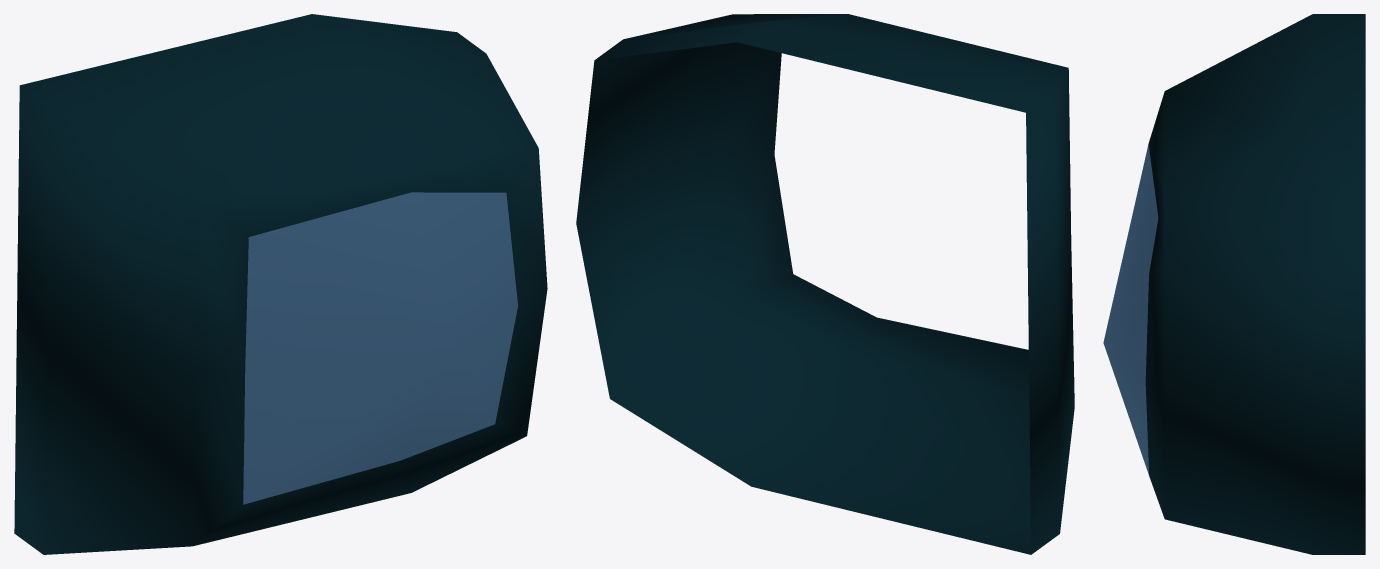
Rendered from ButtonForward.glb.
3 renders of one model, left to right at view 1: azimuth 30°, elevation 25°; view 2: azimuth 150°, elevation 25°; view 3: azimuth 270°, elevation 25°, orthographic. The views are drawn at different scales.
Parts seen in each view (by area): view 1: ButtonForward; view 2: ButtonForward; view 3: ButtonForward.
Boxes of the visible parts, bbox=[...] form: ButtonForward: bbox=[14, 14, 547, 554]; ButtonForward: bbox=[576, 14, 1074, 554]; ButtonForward: bbox=[1103, 14, 1365, 554].
Size of what is drawn, in the model's own units: 0.1834 by 0.1699 by 0.1.
Materials: 2 (2 with a texture image).
